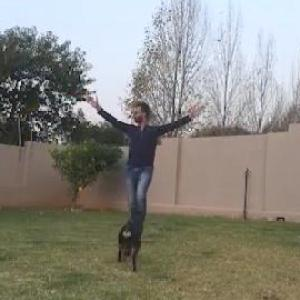takeoff: (80, 84, 212, 236)
